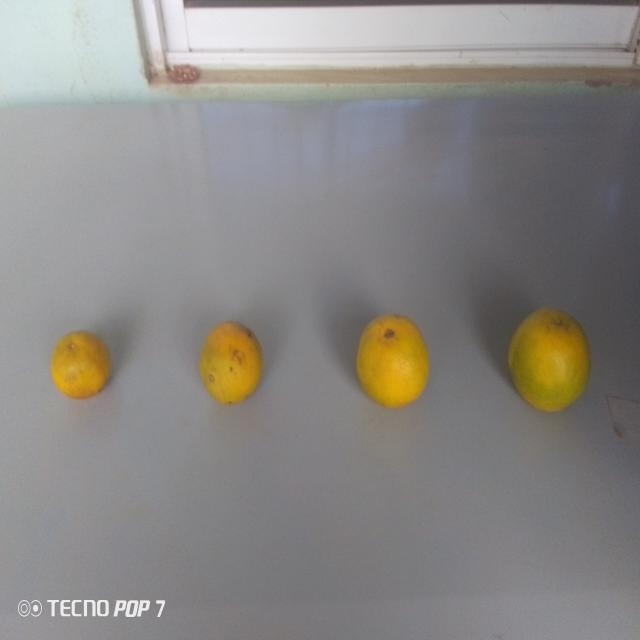agrume: (504, 305, 591, 417), (349, 310, 437, 414), (198, 320, 272, 420), (48, 326, 117, 406)
